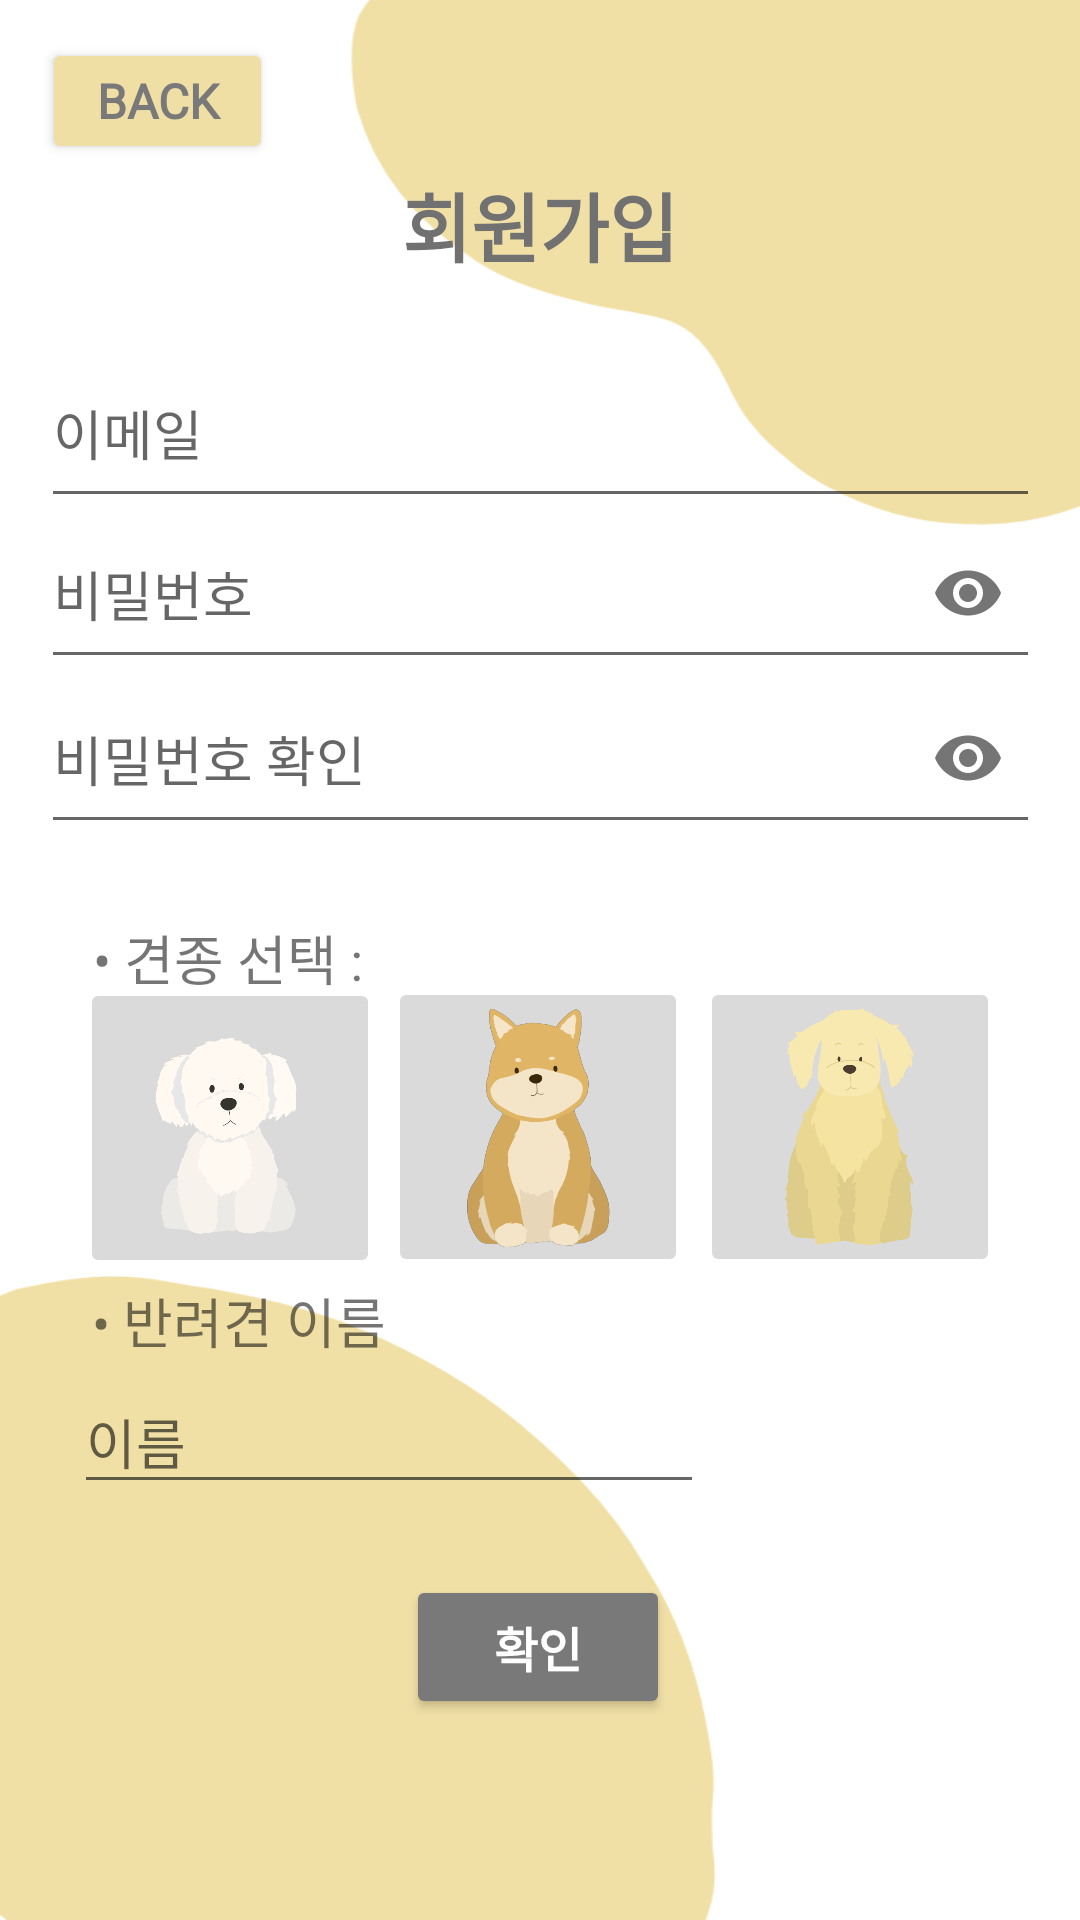

Point at icon controls on the screen. Image size 1080x1920, points as (x,y).
dog: (230,1119)
dog gold: (850,1127)
dog siba: (538,1127)
